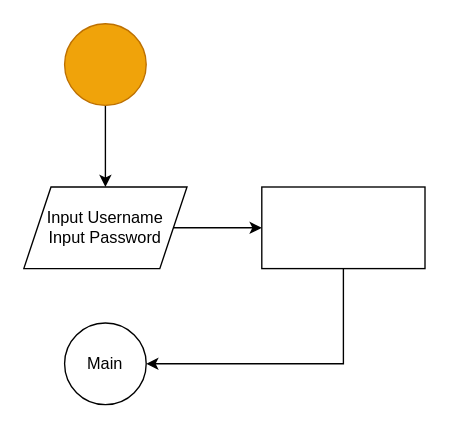
Some shapes in this 449 by 428 pixel diagram are drawn without their labels. The box of each missing label's shape, as (x1, y1, x2, y2) in pixels:
Login: (63, 22, 146, 105)
Validasi: (260, 186, 425, 269)
